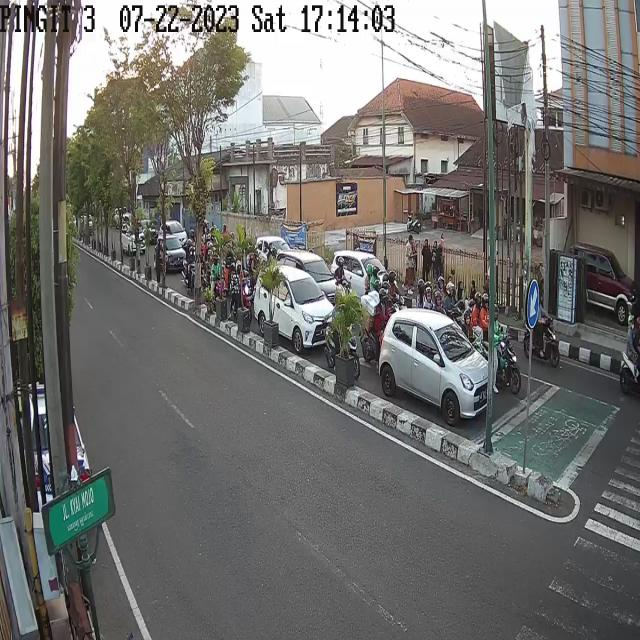car: (378, 308, 492, 429), (252, 260, 336, 355), (575, 243, 637, 324), (275, 248, 344, 316), (334, 248, 391, 299), (154, 232, 184, 270), (120, 225, 145, 254)
motorcycle: (478, 304, 520, 396), (326, 289, 357, 374), (363, 288, 398, 357), (524, 296, 558, 365), (620, 314, 640, 387), (231, 263, 254, 325), (209, 252, 227, 310), (182, 237, 197, 292)
